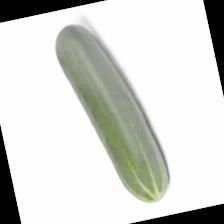cucumber: (48, 9, 174, 216)
